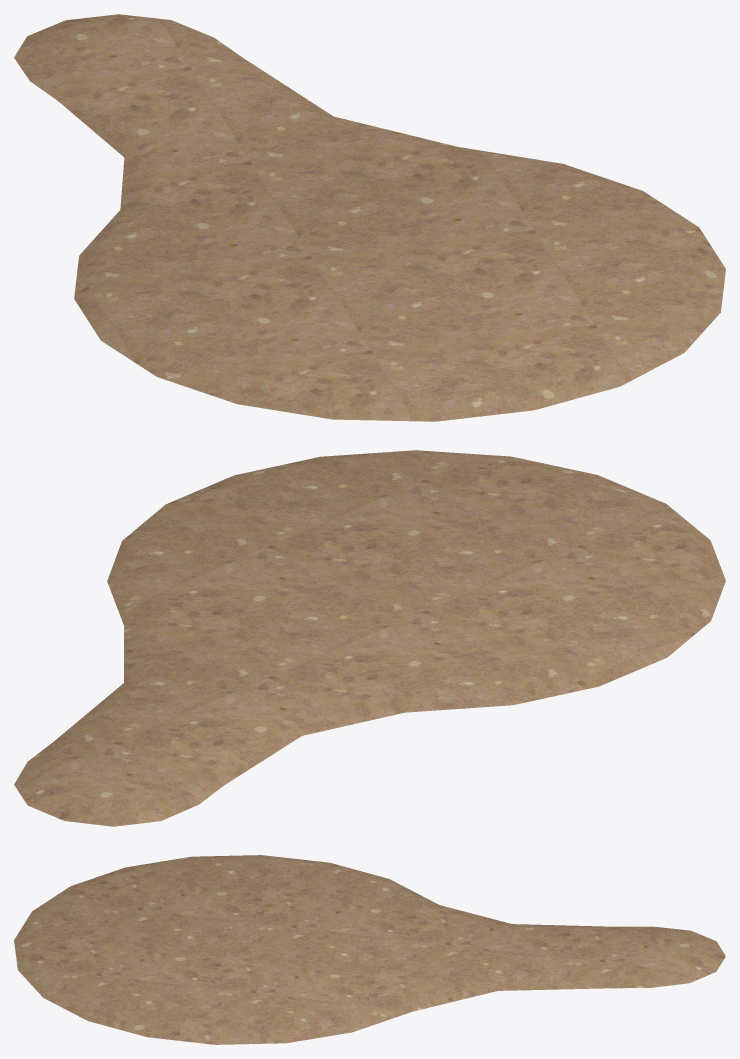
The model's file is THATONEDIRTPATH.fbx.
The picture shows the model from 3 angles, top to bottom: view 1: azimuth 30°, elevation 25°; view 2: azimuth 150°, elevation 25°; view 3: azimuth 270°, elevation 25°; orthographic projection. The views are drawn at different scales.
Visible parts, largest first — view 1: Plane.004; view 2: Plane.004; view 3: Plane.004.
Part boxes in pixels (box(x1,y1,x2,y2)): Plane.004: box(14, 14, 725, 421); Plane.004: box(14, 450, 725, 826); Plane.004: box(14, 855, 725, 1044).
Bounding box in the file's own units: 497 × 7.53 × 788.
1 material, 1 textured.
